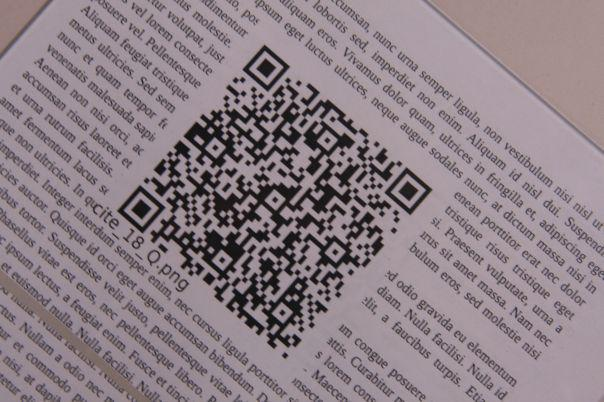Finder pattern: (382, 164, 429, 217), (243, 45, 292, 93), (119, 186, 165, 234)
